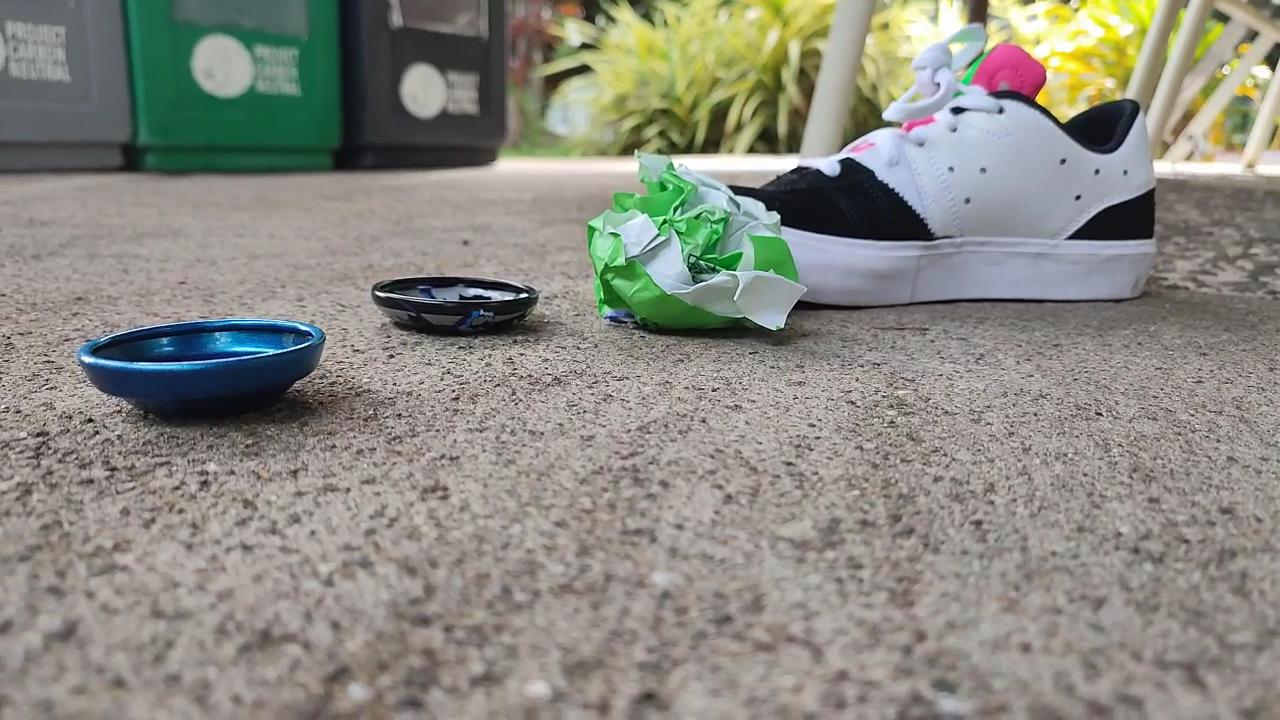Paper: (582, 122, 808, 358)
